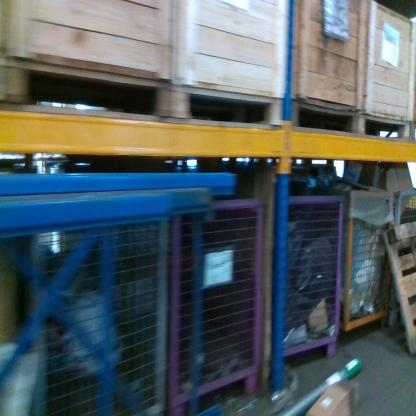pallet: (381, 220, 416, 363)
stillage: (31, 219, 166, 415), (166, 200, 264, 415), (284, 192, 345, 364), (343, 185, 390, 337), (391, 188, 416, 224)
